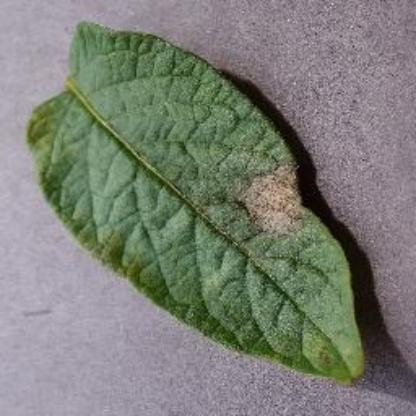Late-Blight: (40, 6, 398, 398)
